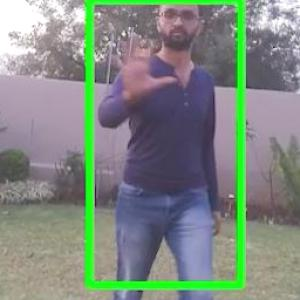follow_hand: (108, 27, 179, 103)
